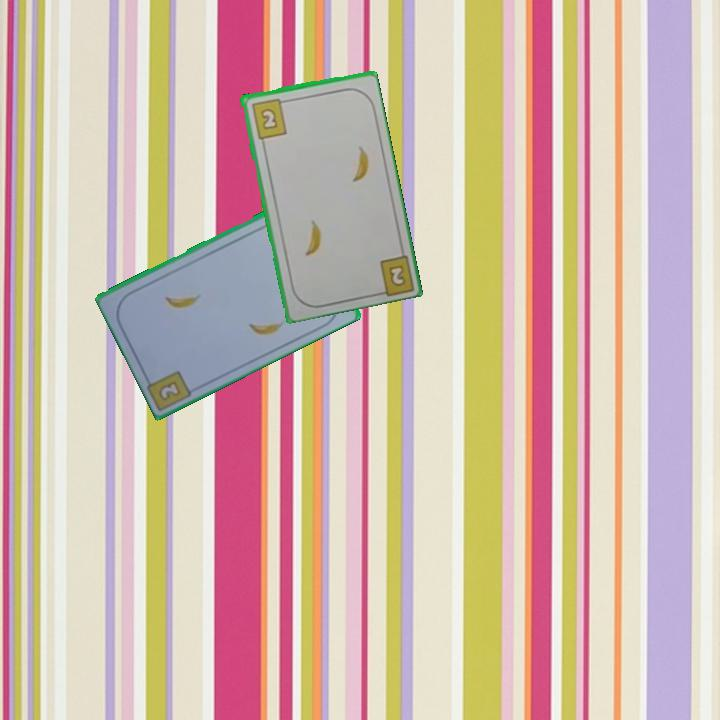2b: (248, 95, 290, 141), (385, 261, 409, 289), (157, 379, 181, 401)
